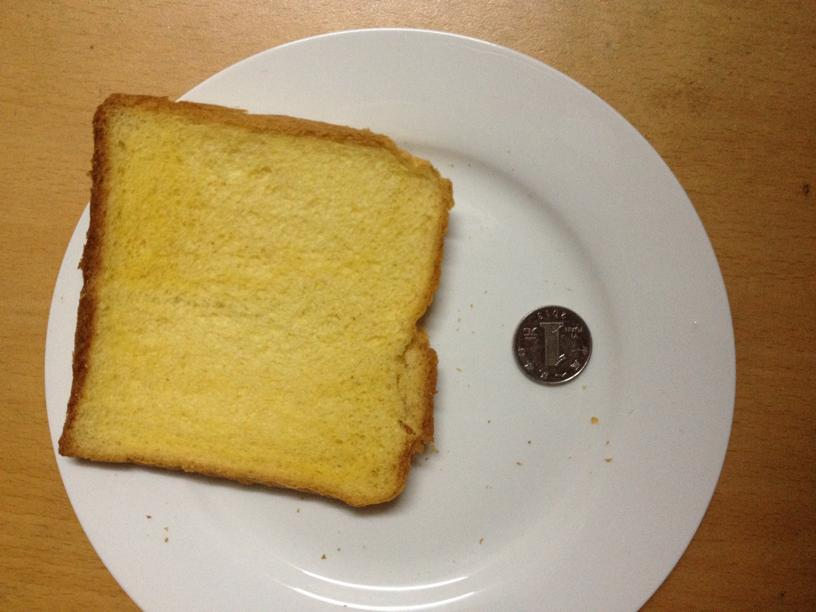bread: (71, 93, 443, 508)
coin: (512, 301, 591, 386)
